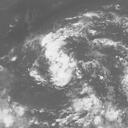cyclone: (38, 31, 79, 87)
